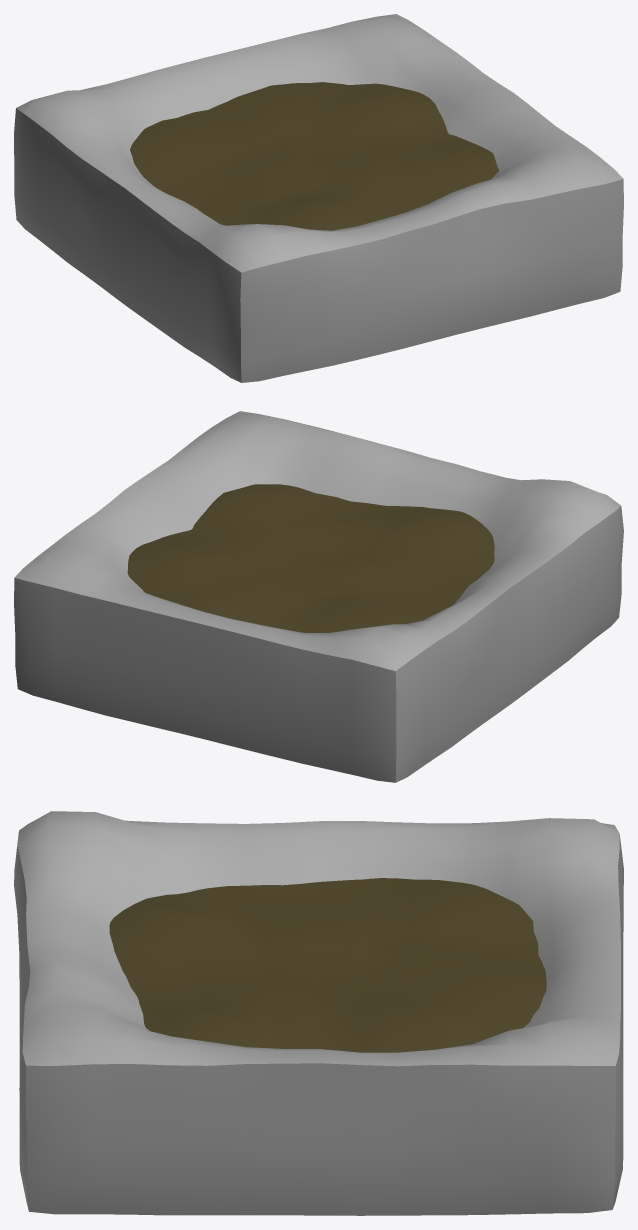
The model's file is Buraco3_adubo.fbx.
3 renders of one model, top to bottom at view 1: azimuth 30°, elevation 25°; view 2: azimuth 150°, elevation 25°; view 3: azimuth 270°, elevation 25°, orthographic. The views are drawn at different scales.
Parts seen in each view (by area): view 1: pCube6, pPlane1; view 2: pCube6, pPlane1; view 3: pCube6, pPlane1.
Part boxes in pixels (bbox=[...]): pCube6: bbox=[14, 14, 623, 382]; pPlane1: bbox=[130, 82, 499, 230]; pCube6: bbox=[14, 411, 623, 782]; pPlane1: bbox=[127, 484, 494, 632]; pCube6: bbox=[14, 811, 623, 1215]; pPlane1: bbox=[109, 878, 546, 1052].
Bounding box in the file's own units: 13.18 × 4.46 × 13.55.
